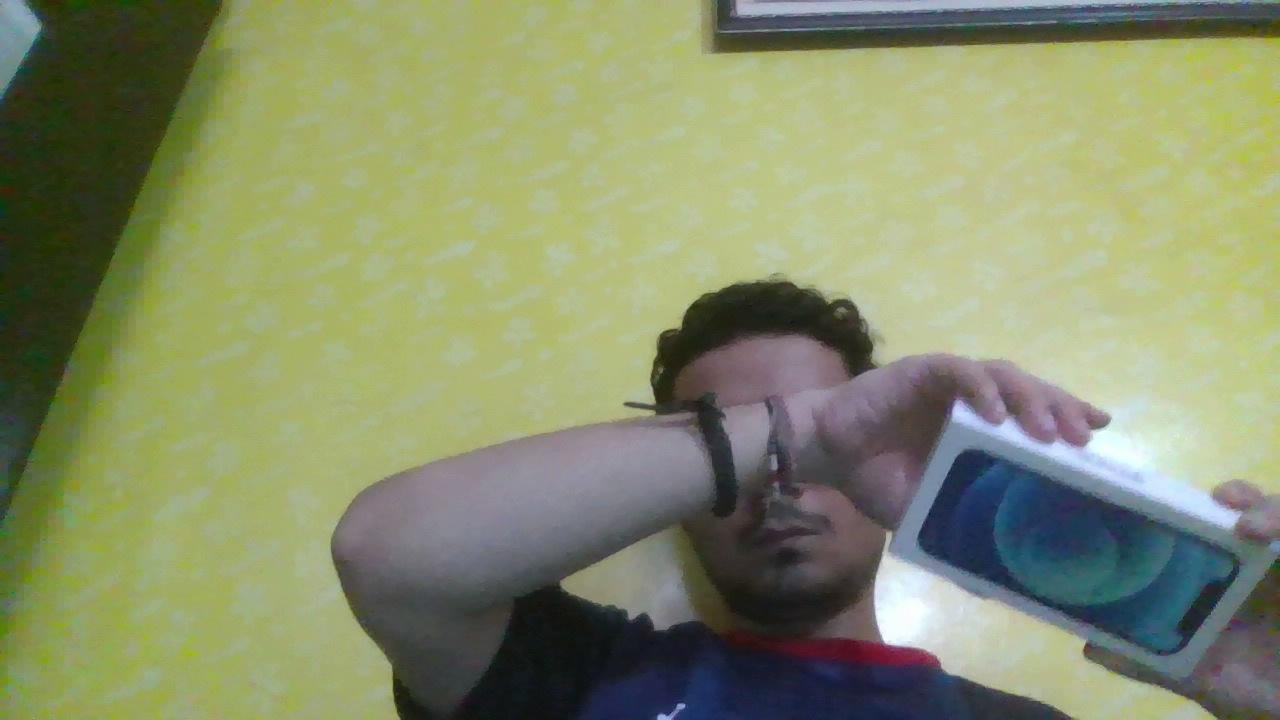Phone: (889, 382, 1254, 668)
